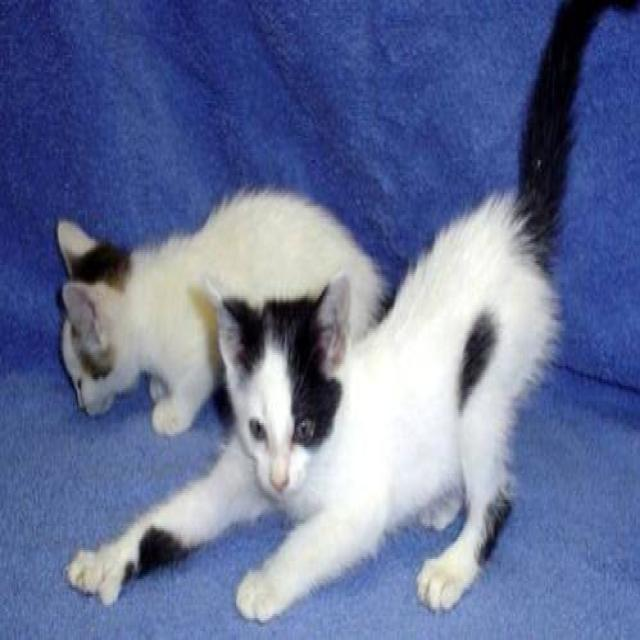cat: (62, 0, 638, 625), (54, 184, 390, 436)
